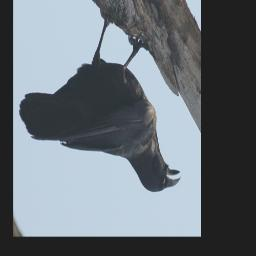Crow: (19, 10, 183, 194)
